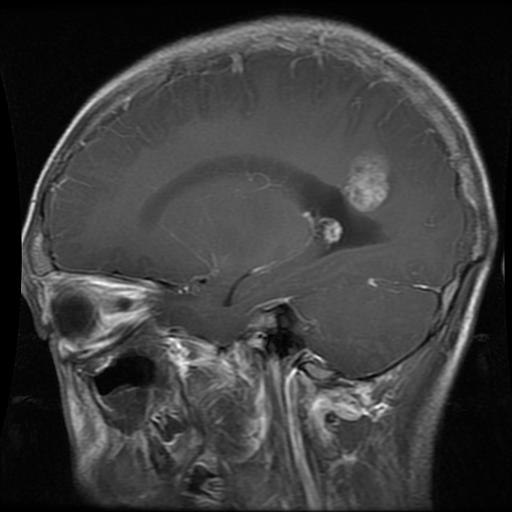Gliomia_tumour: (342, 141, 393, 208)
